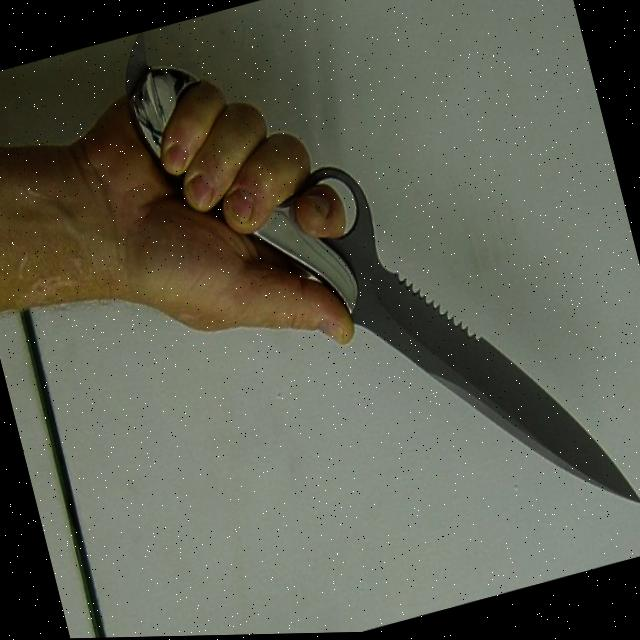knife: (320, 129, 640, 573)
